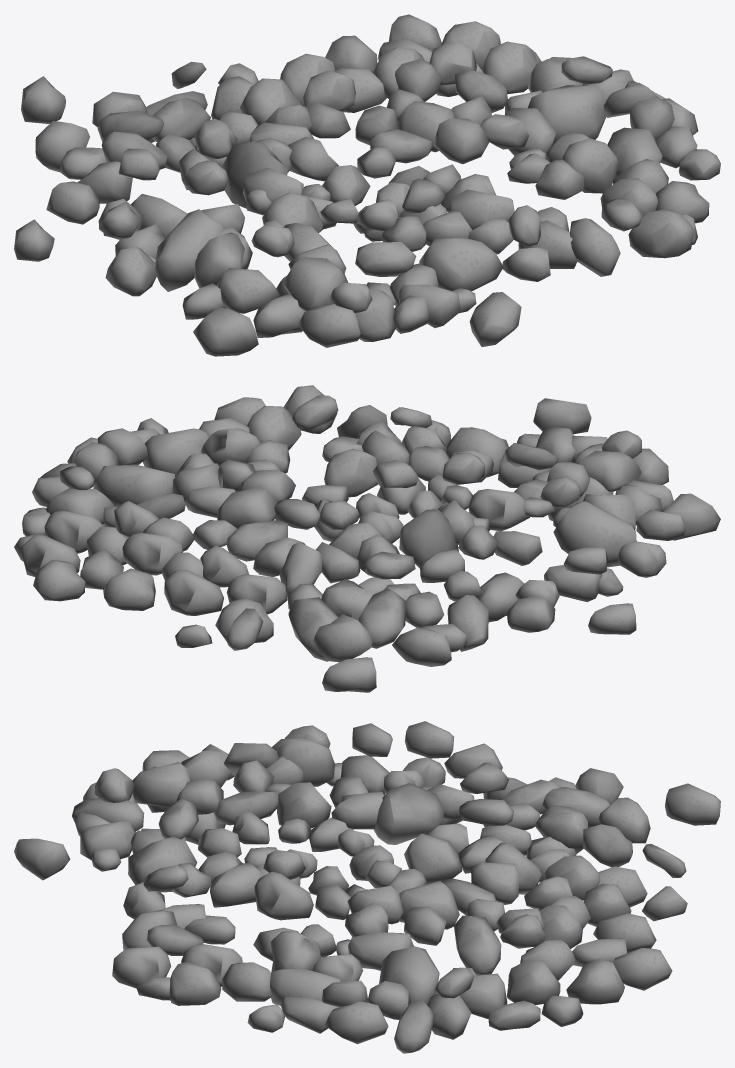
Rendered from PebNest02.fbx.
3 views of the same model, one above another, from view 1: azimuth 30°, elevation 25°; view 2: azimuth 150°, elevation 25°; view 3: azimuth 270°, elevation 25° (orthographic). The views are drawn at different scales.
Parts seen in each view (by area): view 1: PebNest02; view 2: PebNest02; view 3: PebNest02.
Part boxes in pixels (left/top/right/bottom): PebNest02: left=14, top=14, right=720, bottom=356; PebNest02: left=14, top=385, right=720, bottom=692; PebNest02: left=14, top=721, right=720, bottom=1053.
Bounding box in the file's own units: 83.02 × 10.05 × 81.6.
